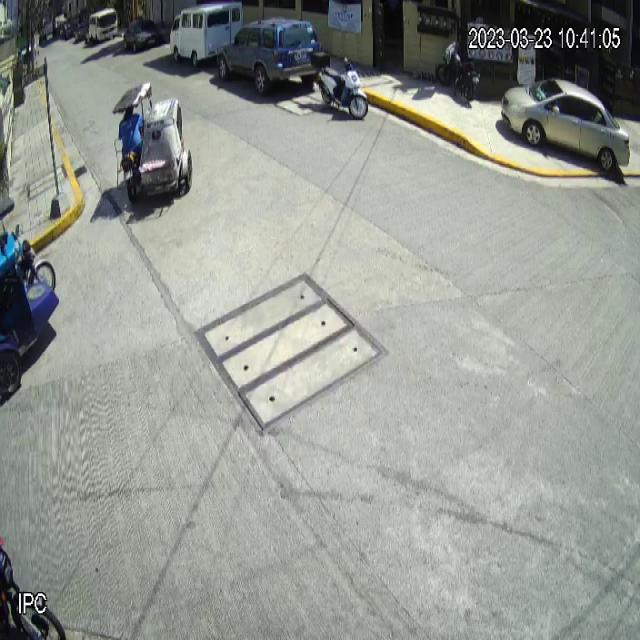Car: (501, 77, 630, 173), (217, 15, 322, 95)
Motorcycle: (310, 50, 369, 120)
Tricycle: (113, 83, 192, 201)
Van: (170, 1, 242, 68)
